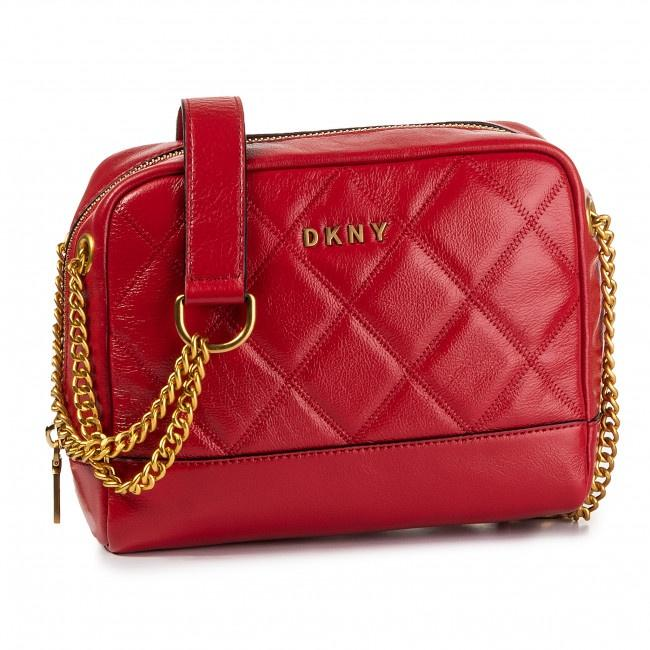DKNY: (302, 221, 388, 247)
